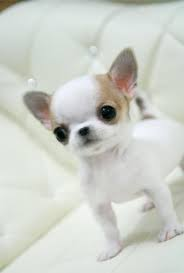chihuahua: (12, 45, 184, 261)
